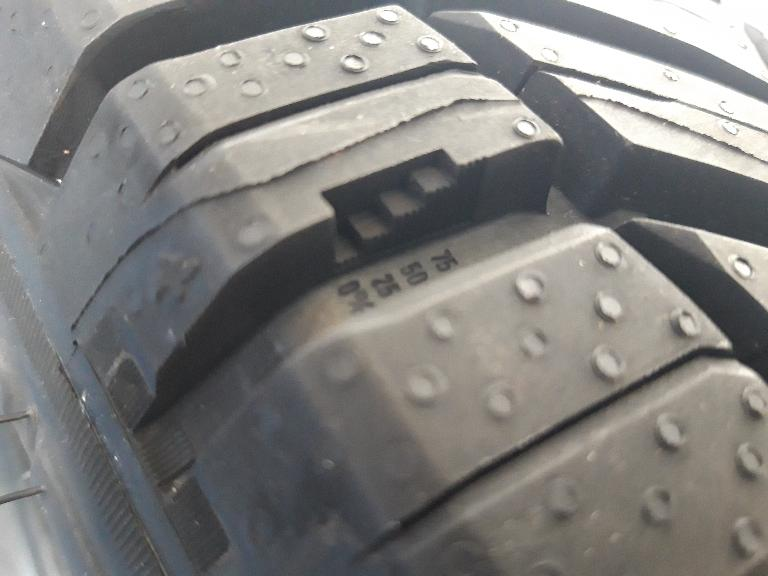temoin:100: (314, 141, 501, 281)
